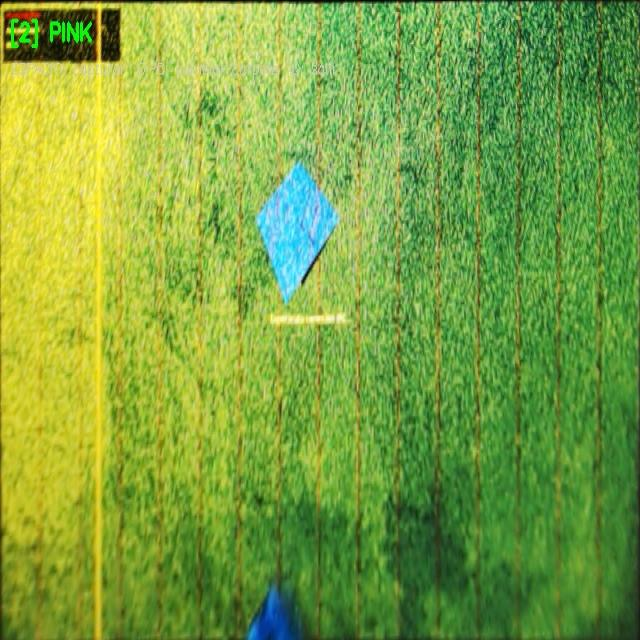pink: (256, 163, 338, 303)
